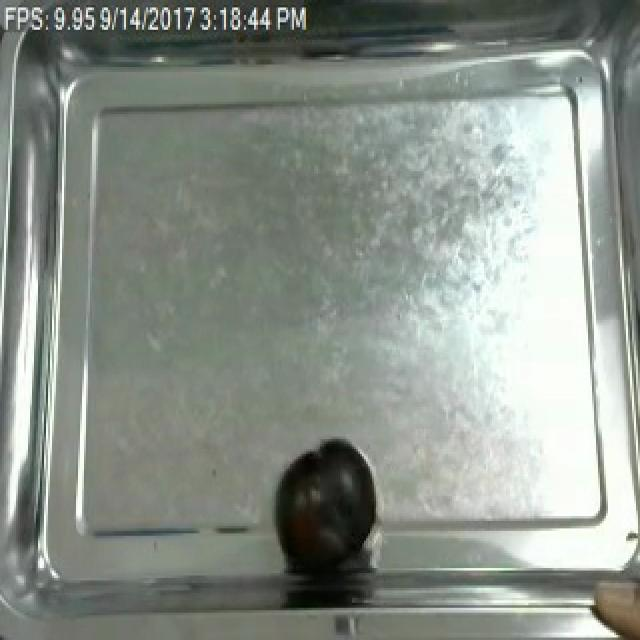Fruit: (272, 437, 382, 563), (584, 565, 640, 640)
